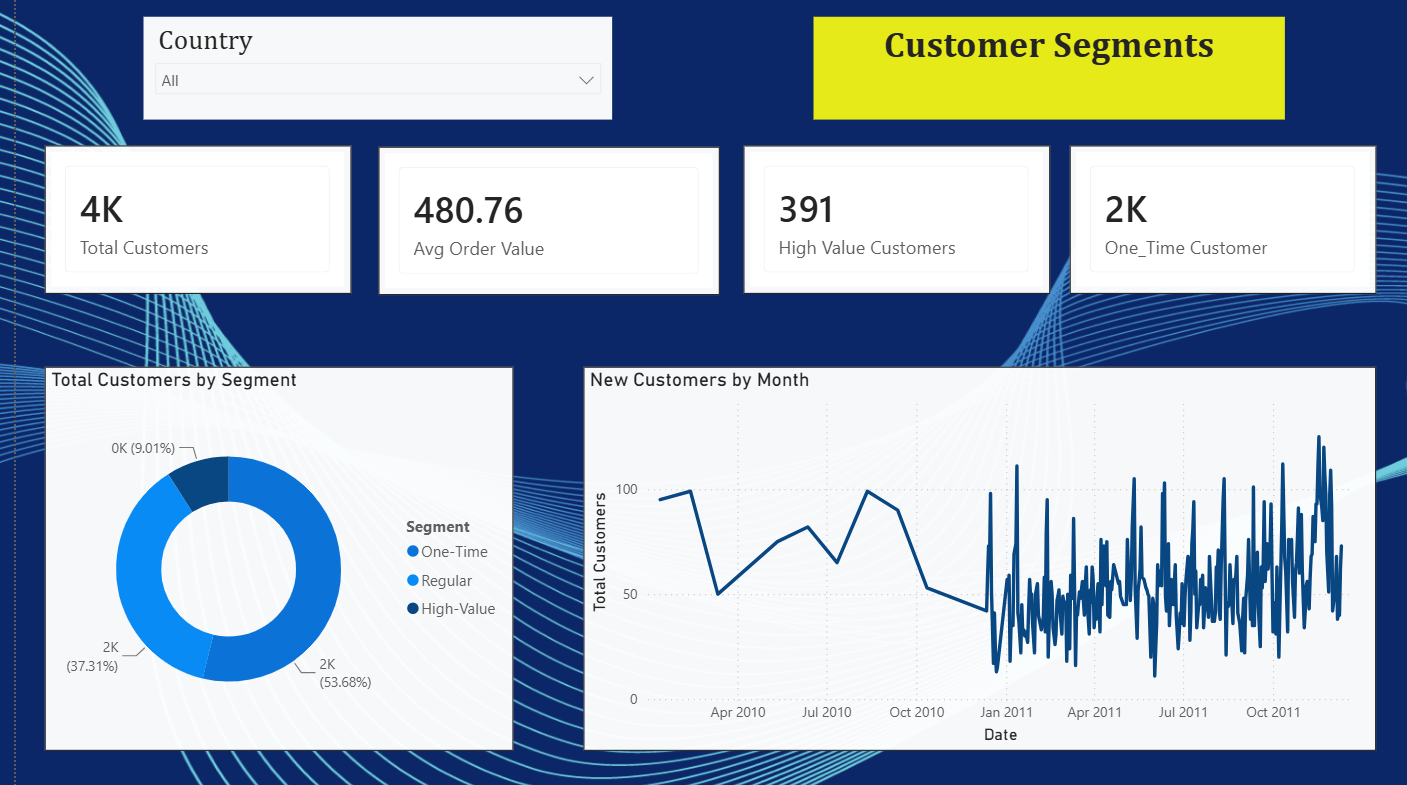

This screenshot's page, from the dashboard's own definition file:
{"tool":"powerbi","page":{"name":"Customer Segments","canvas":[1280,720],"ordinal":2},"visuals":[{"type":"slicer","fields":{"Values":["ecommerce_cleaned.Country"]},"box":[112.1,20.9,412.1,90.1],"z":0},{"type":"textbox","box":[701.1,20.9,414.3,90.1],"z":1},{"type":"cardVisual","fields":{"Data":["_Measure.Total Customers"]},"box":[25.3,134.1,269.2,130.8],"z":2},{"type":"cardVisual","fields":{"Data":["_Measure.High Value Customers"]},"box":[639.6,134.1,269.2,130.8],"z":3},{"type":"cardVisual","fields":{"Data":["_Measure.One_Time Customer"]},"box":[926.4,134.1,269.2,130.8],"z":4},{"type":"cardVisual","fields":{"Data":["_Measure.Avg Order Value"]},"box":[318.7,135.2,300,130.8],"z":5},{"type":"donutChart","fields":{"Category":["ecommerce_cleaned.Segment"],"Y":["_Measure.Total Customers"]},"box":[25.3,328.6,412.1,337.4],"z":6},{"type":"lineChart","title":"New Customers by Month","fields":{"Category":["DateTable.Date"],"Y":["_Measure.Total Customers"]},"box":[498.9,328.6,696.7,337.4],"z":7}]}

Visuals, with their boxes in screenshot pixels (x1, y1, x2, y2), scaled from the page's 1280x720 canvas onto the 1407x785 screenshot:
slicer - ecommerce_cleaned.Country: {"x1": 123, "y1": 23, "x2": 576, "y2": 121}
textbox: {"x1": 771, "y1": 23, "x2": 1226, "y2": 121}
cardVisual - _Measure.Total Customers: {"x1": 28, "y1": 146, "x2": 324, "y2": 289}
cardVisual - _Measure.High Value Customers: {"x1": 703, "y1": 146, "x2": 999, "y2": 289}
cardVisual - _Measure.One_Time Customer: {"x1": 1018, "y1": 146, "x2": 1314, "y2": 289}
cardVisual - _Measure.Avg Order Value: {"x1": 350, "y1": 147, "x2": 680, "y2": 290}
donutChart - ecommerce_cleaned.Segment x _Measure.Total Customers: {"x1": 28, "y1": 358, "x2": 481, "y2": 726}
"New Customers by Month" lineChart: {"x1": 548, "y1": 358, "x2": 1314, "y2": 726}
